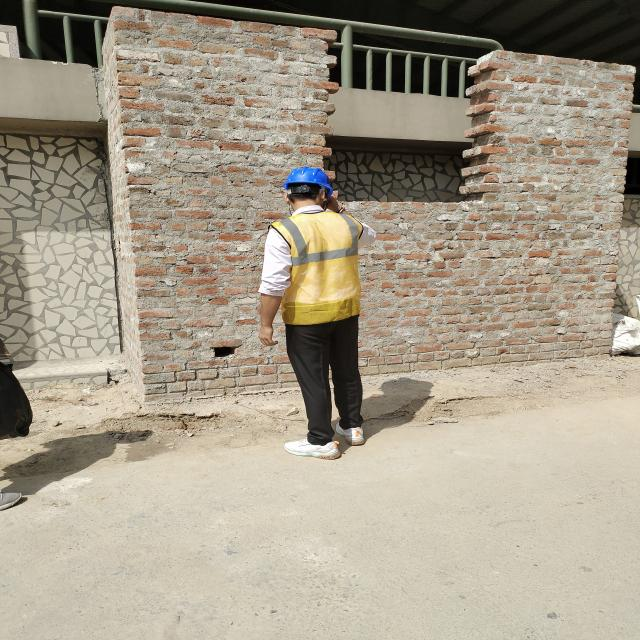safe: (260, 166, 365, 460)
